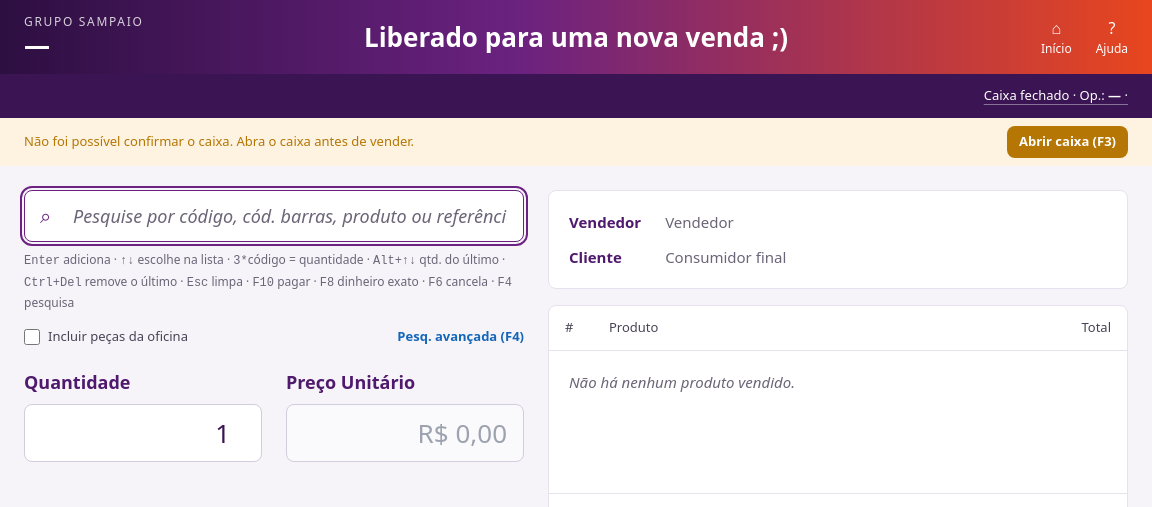
Test: bipar uma PEÇA não enche o carrinho sozinho › cancelar não deixa nada para trás
Type "7890000000024" into the field labelled "Pesquise por código, cód. barras, produto ou referência".
click(274, 216); type("7890000000024")  # box [24,190,524,242]
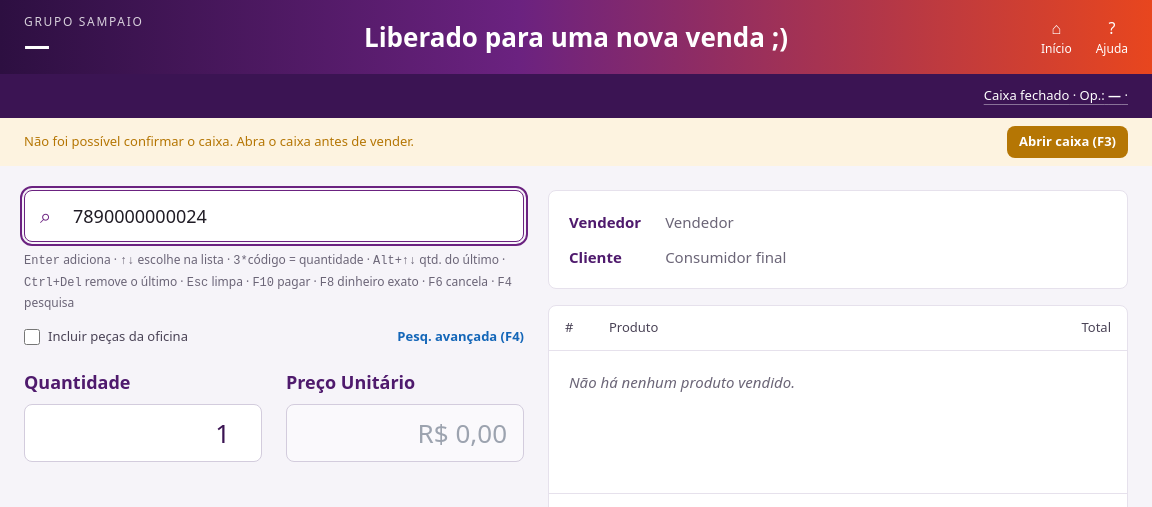
Press Enter in the field named "Pesquise por código", box [24,190,524,242]
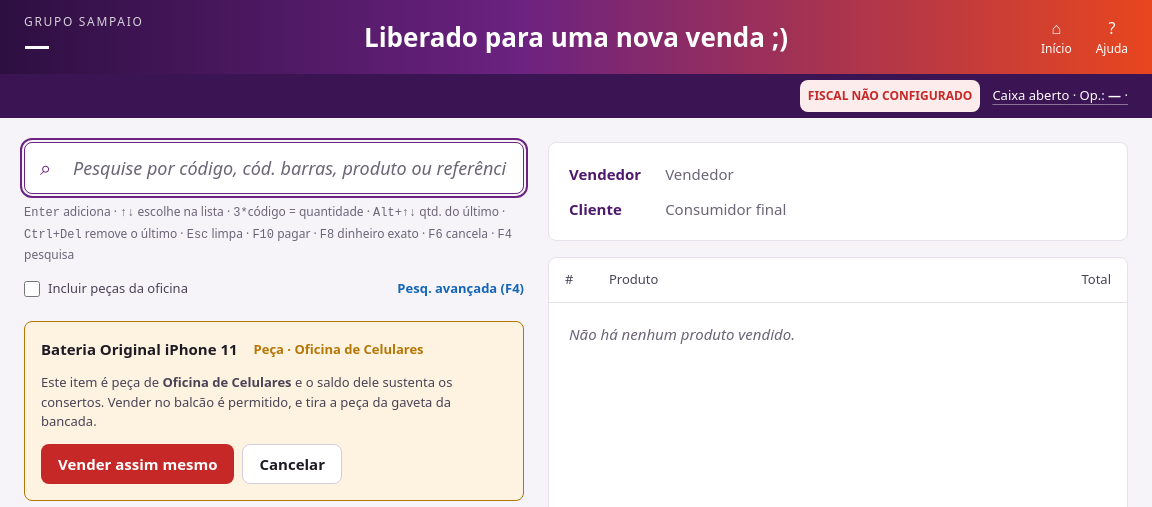
Click the button "Cancelar".
click(292, 464)  # box [242,444,342,484]
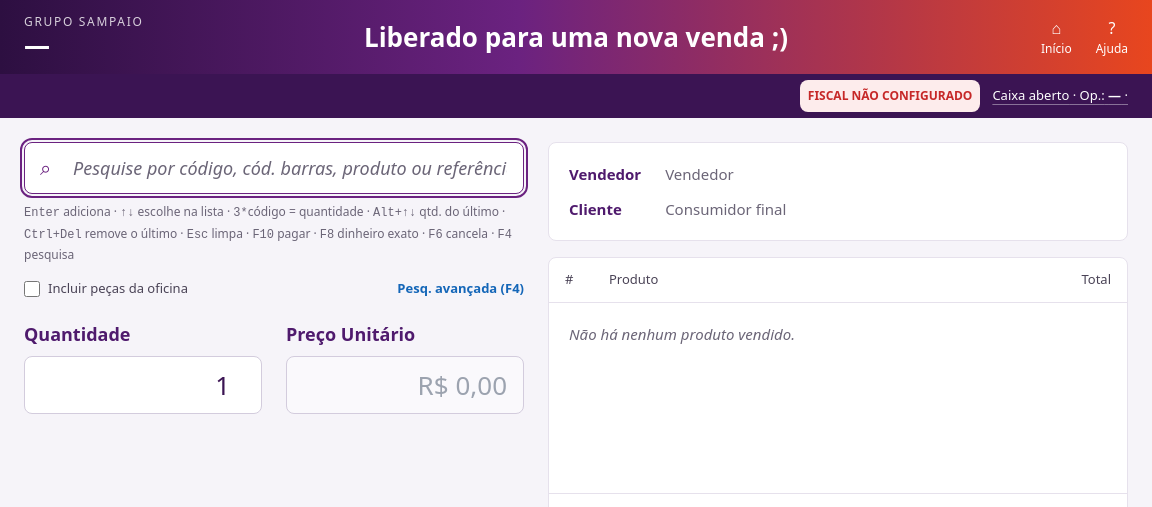
Expected: the dialog is gone
